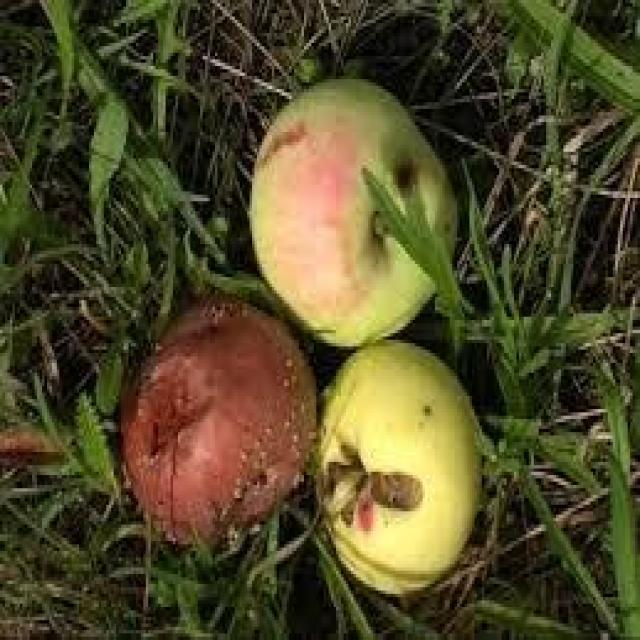maca: (247, 72, 457, 346), (116, 294, 316, 551), (314, 337, 482, 597)
